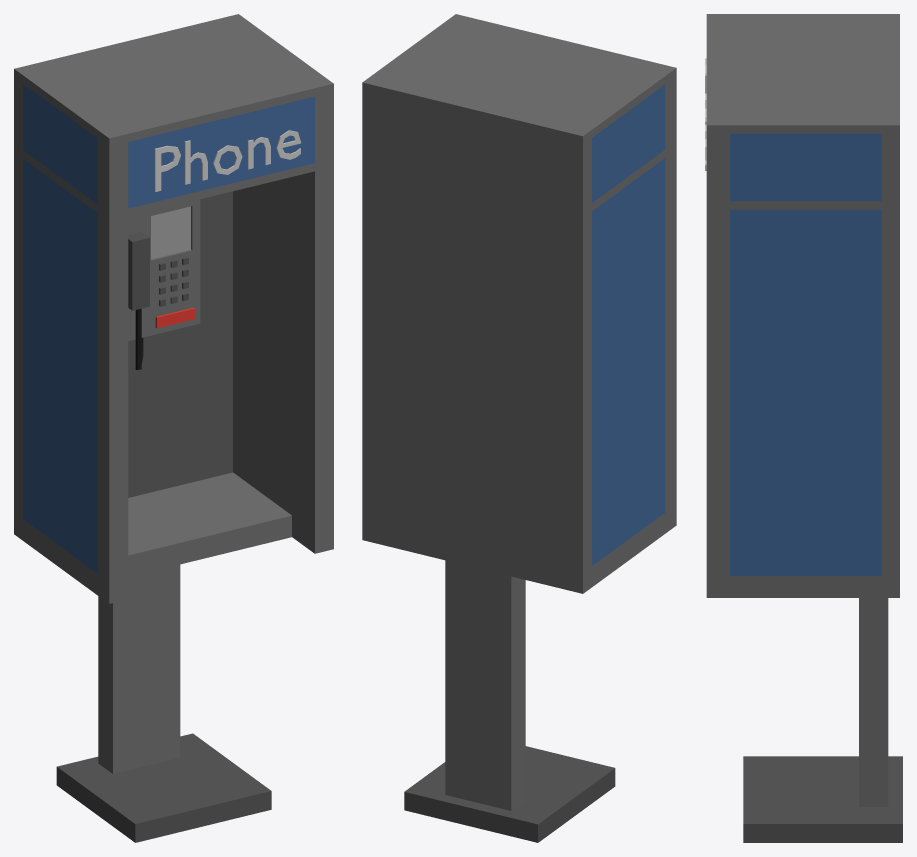
Rendered from PhoneBooth_01.fbx.
3 renders of one model, left to right at view 1: azimuth 30°, elevation 25°; view 2: azimuth 150°, elevation 25°; view 3: azimuth 270°, elevation 25°, orthographic. The views are drawn at different scales.
Parts seen in each view (by area): view 1: PhoneBooth_01; view 2: PhoneBooth_01; view 3: PhoneBooth_01.
Part boxes in pixels (x1,y1,x2,y2): PhoneBooth_01: (14, 14, 333, 842); PhoneBooth_01: (362, 14, 676, 842); PhoneBooth_01: (705, 14, 902, 842).
Size of the model in its own units: 64.5 by 200 by 48.51.
